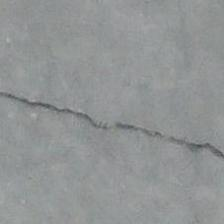Crack: (0, 20, 224, 214)
